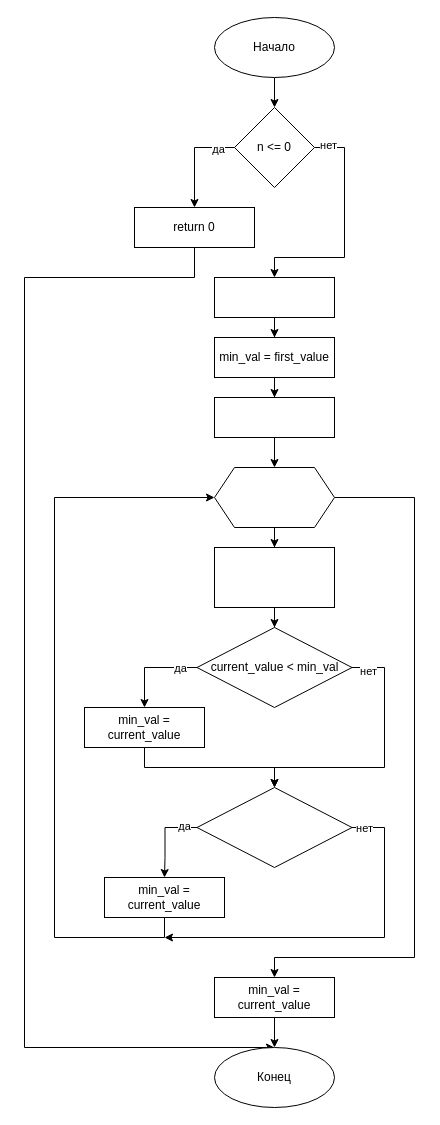
The diagram is 440 pixels wide and 1125 high, and some of its shapes have lost their labels. Here are the shapes that lost their labels. From the top down, the centre of each, then its label:
At [274,297]: "first_value = prtf(x[0])".
At [274,417]: "max_val = first_value".
At [274,497]: "i = 1; i < n; i++".
At [274,577]: "current_value = prtf(x[i])".
At [274,827]: "current_value > max_val".
